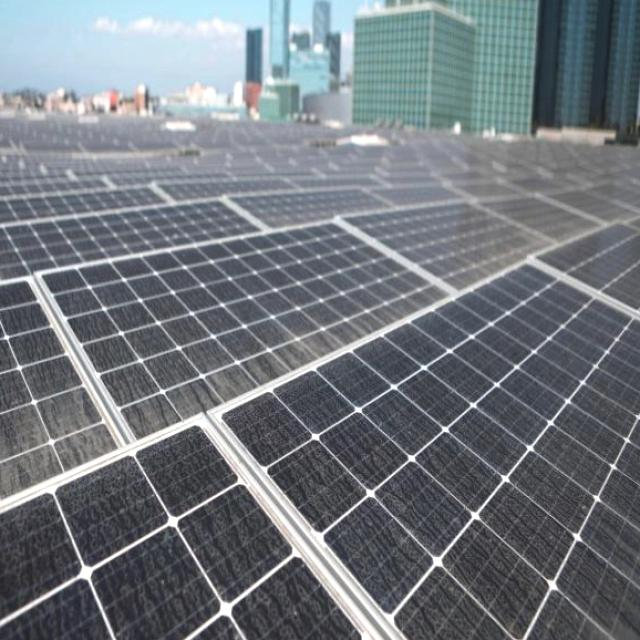Surface Contaminant: (0, 212, 640, 640), (0, 175, 640, 503)
